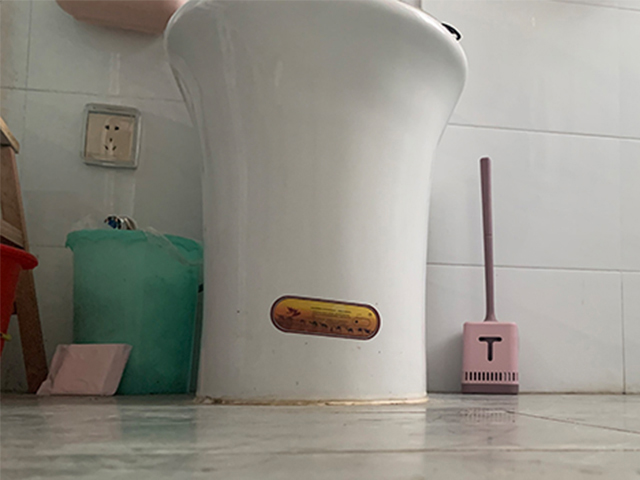closestool: (163, 1, 469, 407)
trashcan: (65, 228, 204, 394)
